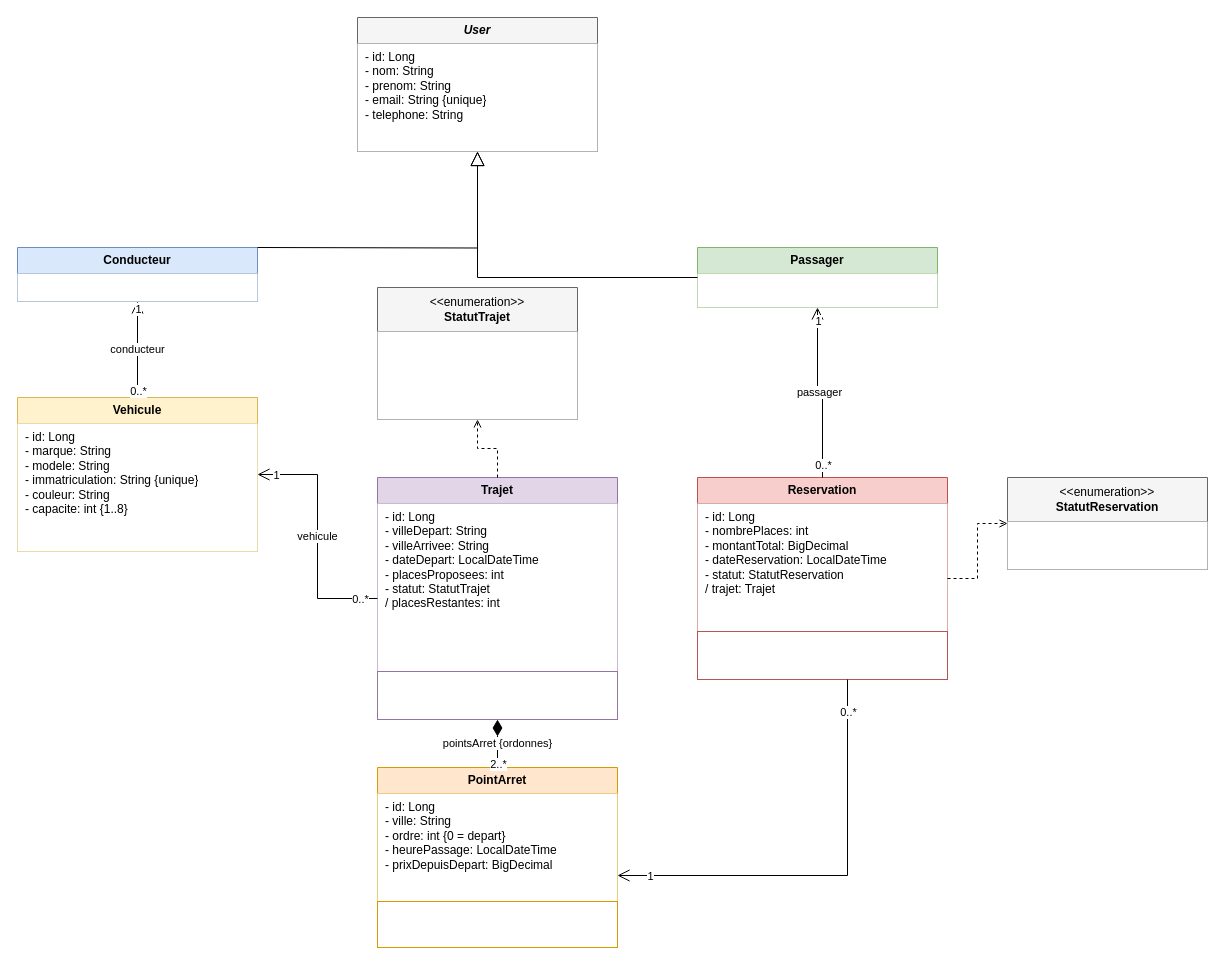
This 1225x968 diagram has some shape labels left out. Each missing label, with the centre of its shape:
"+ addPointArret(p: PointArret) + estFinal(): boolean" belongs at pixel 497 695.
"+ annuler() + estConfirmee(): boolean" belongs at pixel 822 655.
"+ prixVers(descente: PointArret): BigDecimal" belongs at pixel 497 924.
"+register(); +makeReservation();" belongs at pixel 817 290.
"- numeroPermis: String {unique}" belongs at pixel 137 287.
"CONFIRMEE ANNULEE" belongs at pixel 1107 545.
"PUBLIE COMPLET TERMINE ANNULE" belongs at pixel 477 375.
